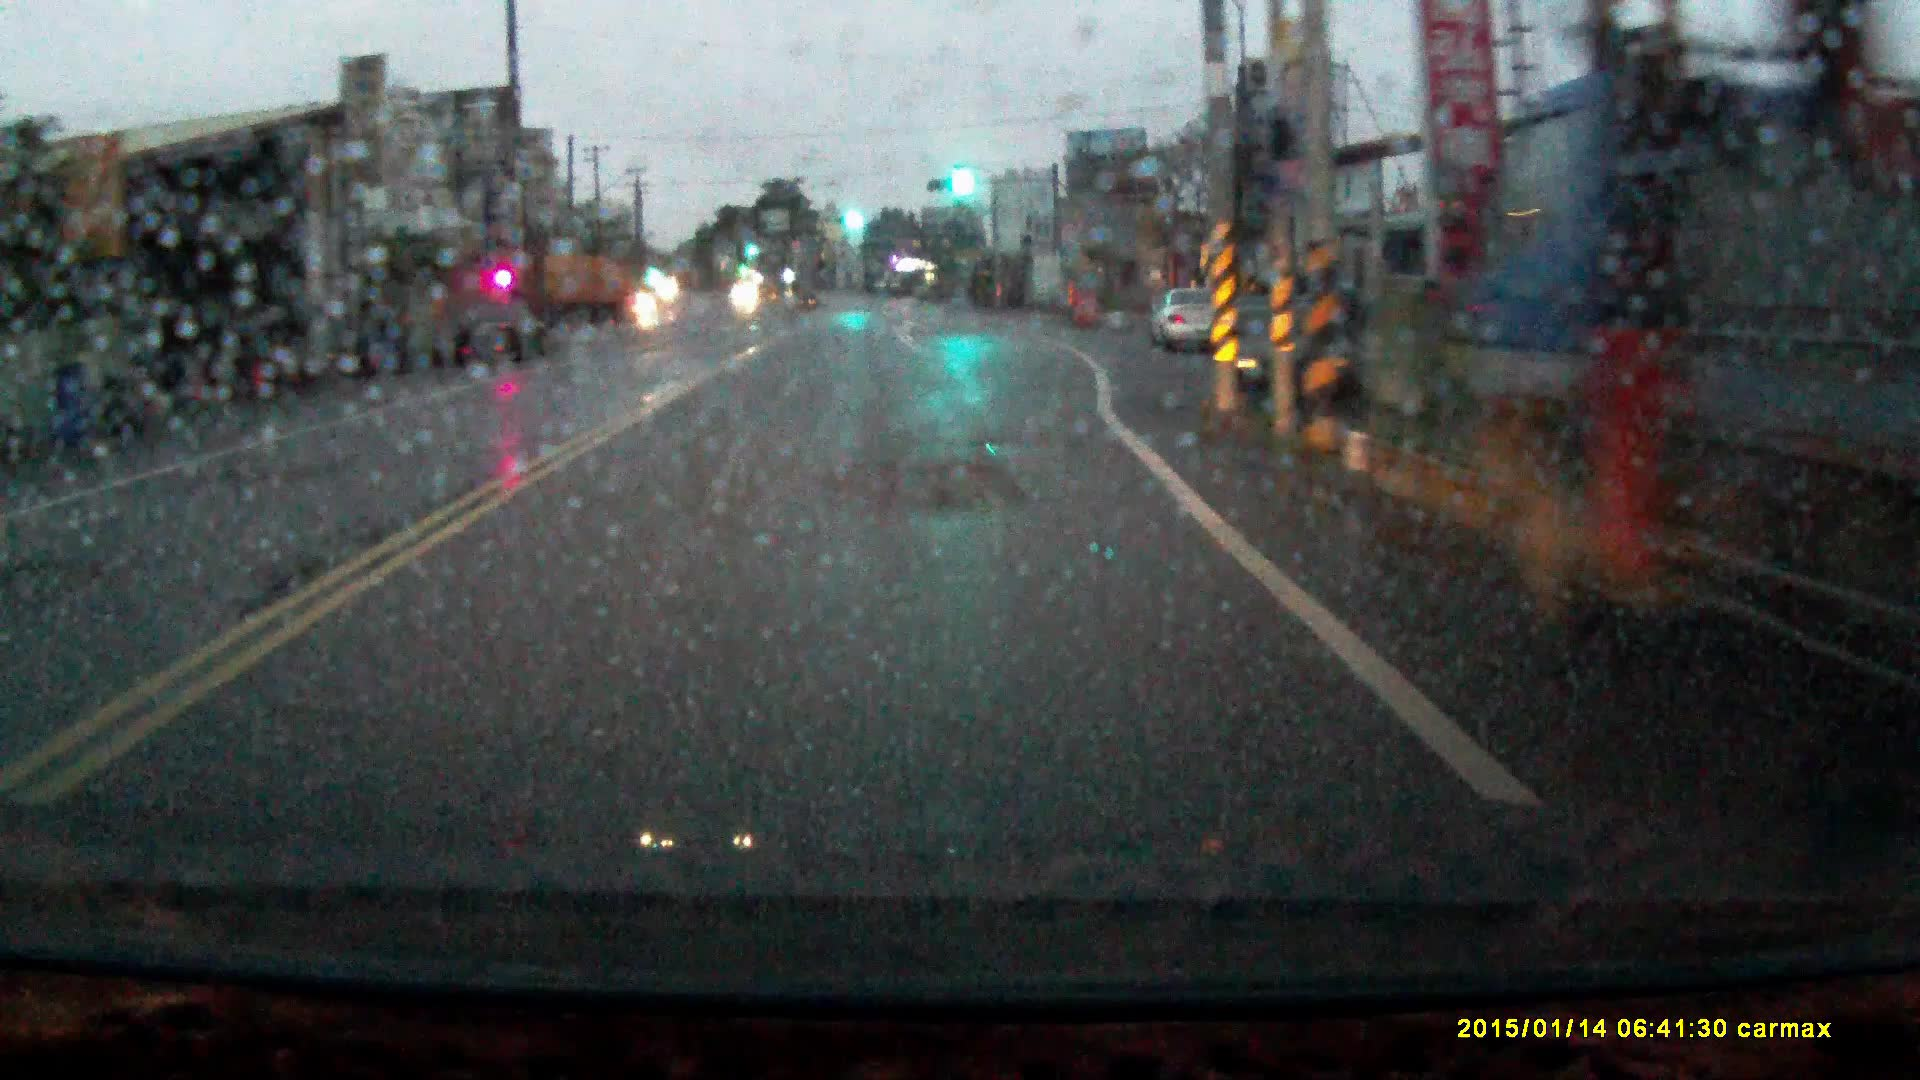vehicle: (1207, 293, 1350, 415), (520, 258, 636, 327), (452, 302, 556, 371), (1147, 287, 1215, 351)
